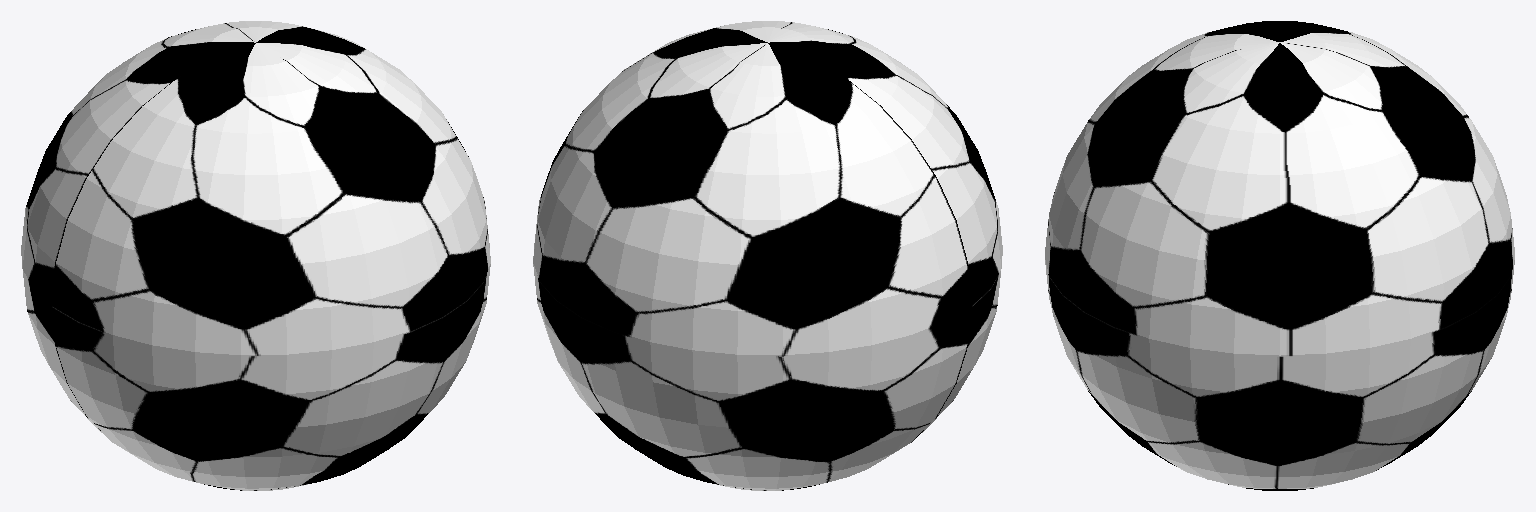
3 views of the same model, side by side, from view 1: azimuth 30°, elevation 25°; view 2: azimuth 150°, elevation 25°; view 3: azimuth 270°, elevation 25° (orthographic).
Visible parts, largest first — view 1: 구체; view 2: 구체; view 3: 구체.
Boxes of the visible parts, x1=… form: 구체: x1=21, y1=21, x2=490, y2=490; 구체: x1=533, y1=21, x2=1002, y2=490; 구체: x1=1045, y1=21, x2=1514, y2=490.
Size of the model in its own units: 2 by 2 by 2.
1 materials, 1 textured.